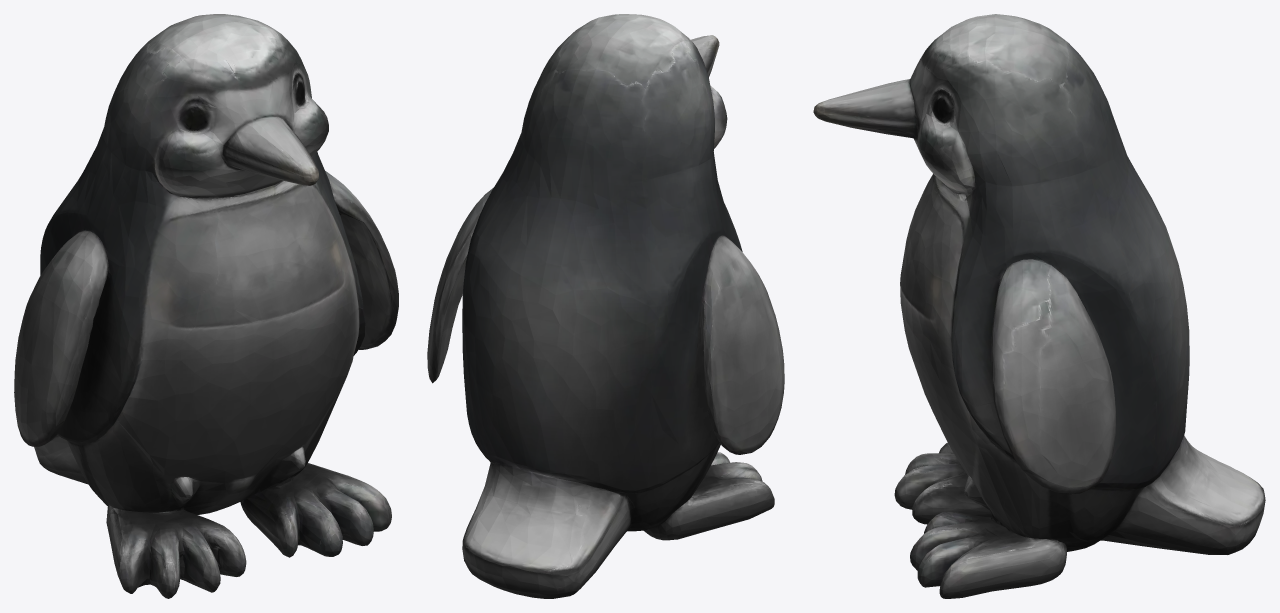
File: penguin.glb
The picture shows the model from 3 angles, left to right: view 1: azimuth 30°, elevation 25°; view 2: azimuth 150°, elevation 25°; view 3: azimuth 270°, elevation 25°; orthographic projection. The views are drawn at different scales.
Visible parts, largest first — view 1: world; view 2: world; view 3: world.
Boxes of the visible parts, left/top/right/bottom form: world: left=14, top=14, right=398, bottom=598; world: left=427, top=14, right=784, bottom=598; world: left=813, top=14, right=1265, bottom=598.
Size of the model in its own units: 0.7078 by 0.9991 by 0.7923.
1 material, 1 textured.
